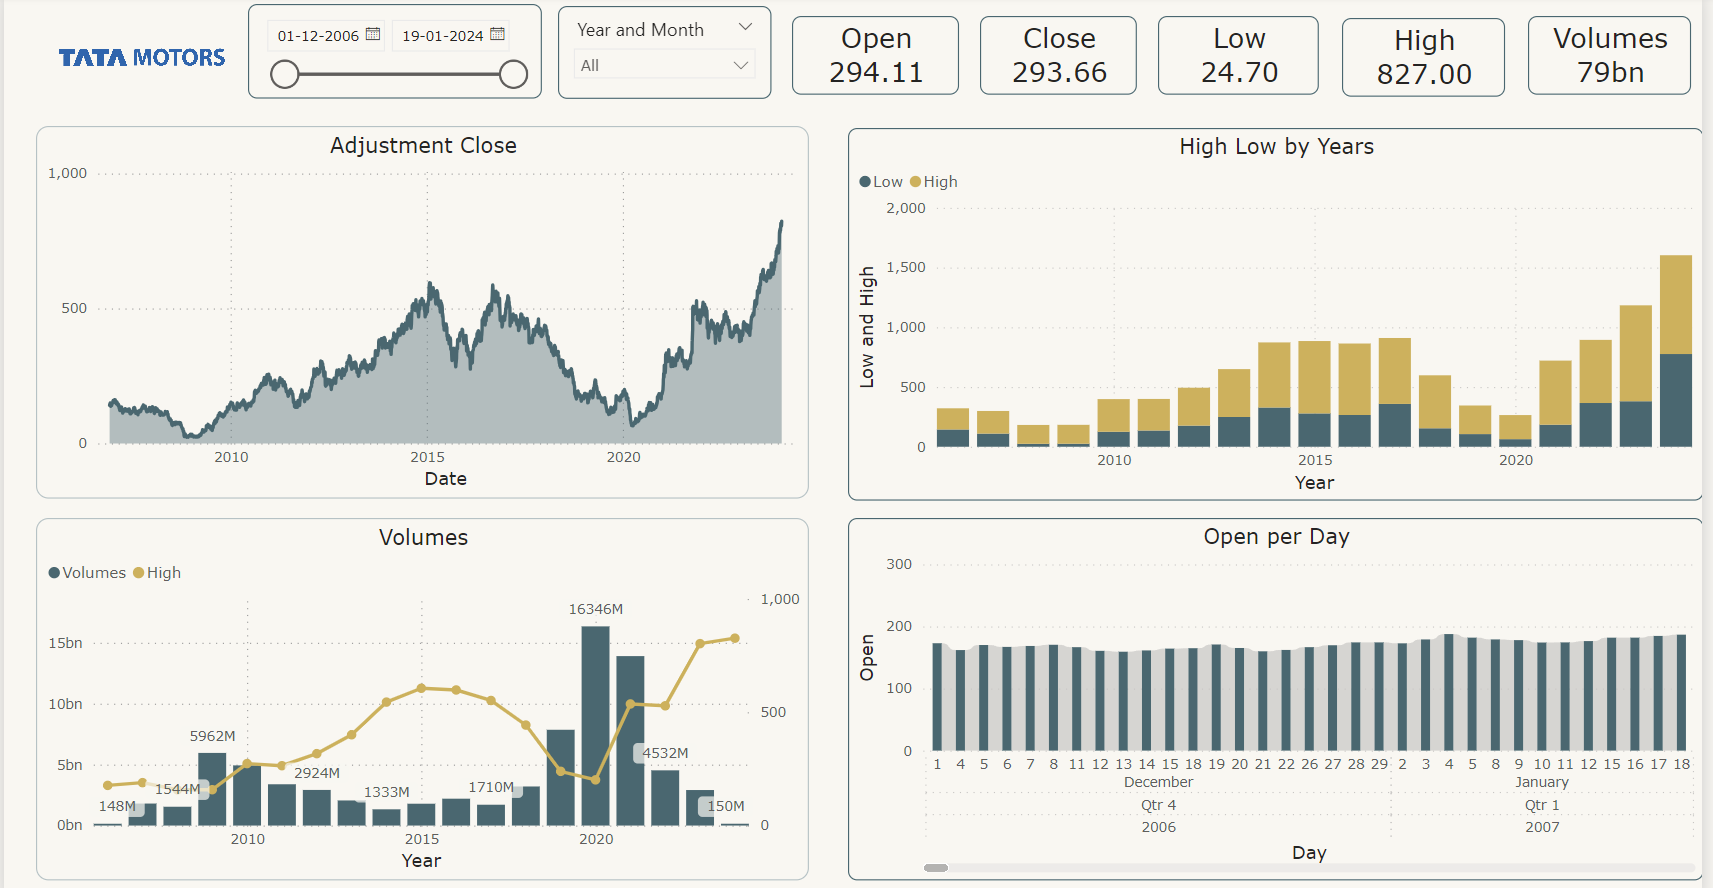

This screenshot's page, from the dashboard's own definition file:
{"tool":"powerbi","page":{"name":"Page 1","canvas":[1500,800],"ordinal":0},"visuals":[{"type":"areaChart","title":"Adjustment Close","fields":{"Category":["TATAMOTORS NS.Date"],"Y":["Sum(TATAMOTORS NS.Adj Close)"]},"box":[28.4,117.3,682.5,328.8],"z":0},{"type":"lineClusteredColumnComboChart","title":"Volumes ","fields":{"Category":["TATAMOTORS NS.Date.Variation.Date Hierarchy.Year","TATAMOTORS NS.Date.Variation.Date Hierarchy.Quarter","TATAMOTORS NS.Date.Variation.Date Hierarchy.Month","TATAMOTORS NS.Date.Variation.Date Hierarchy.Day"],"Y":["Sum(TATAMOTORS NS.Volume)"],"Y2":["Max(TATAMOTORS NS.High)"]},"box":[28.4,462.1,682.5,319.9],"z":1000},{"type":"image","box":[28.4,8.9,186.6,94.2],"z":2000},{"type":"lineStackedColumnComboChart","title":"High Low  by Years","fields":{"Category":["TATAMOTORS NS.Date.Variation.Date Hierarchy.Year"],"Y":["Min(TATAMOTORS NS.Low)","Max(TATAMOTORS NS.High)"]},"box":[744.7,119.1,755.3,328.8],"z":3000},{"type":"slicer","title":"Date","fields":{"Values":["TATAMOTORS NS.Date"]},"box":[215,8.9,259.5,83.5],"z":4000},{"type":"card","title":"Open","fields":{"Values":["Avg(TATAMOTORS NS.Open)"]},"box":[696.7,19.5,147.5,69.3],"z":6000},{"type":"card","title":"High","fields":{"Values":["Max(TATAMOTORS NS.High)"]},"box":[1181.9,21.3,144,69.3],"z":7000},{"type":"card","title":"Low","fields":{"Values":["Min(TATAMOTORS NS.Low)"]},"box":[1018.4,19.5,142.2,69.3],"z":8000},{"type":"card","title":"Close","fields":{"Values":["Avg(TATAMOTORS NS.Close)"]},"box":[862,19.5,138.6,69.3],"z":9000},{"type":"card","title":"Volumes","fields":{"Values":["Sum(TATAMOTORS NS.Volume)"]},"box":[1345.4,19.5,144,69.3],"z":10000},{"type":"ribbonChart","title":"Open per Day","fields":{"Y":["Avg(TATAMOTORS NS.Open)"],"Category":["TATAMOTORS NS.Date.Variation.Date Hierarchy.Year","TATAMOTORS NS.Date.Variation.Date Hierarchy.Quarter","TATAMOTORS NS.Date.Variation.Date Hierarchy.Month","TATAMOTORS NS.Date.Variation.Date Hierarchy.Day"]},"box":[744.7,462.1,755.3,319.9],"z":10001},{"type":"slicer","fields":{"Values":["TATAMOTORS NS.Date.Variation.Date Hierarchy.Year","TATAMOTORS NS.Date.Variation.Date Hierarchy.Month"]},"box":[488.7,10.7,188.4,81.8],"z":10002}]}

Visuals, with their boxes in screenshot pixels (x1, y1, x2, y2), scaled from the page's 1500x800 canvas onto the 1713x888 screenshot:
"Adjustment Close" areaChart: region(32, 130, 812, 495)
"Volumes " lineClusteredColumnComboChart: region(32, 513, 812, 868)
image: region(32, 10, 246, 114)
"High Low  by Years" lineStackedColumnComboChart: region(850, 132, 1712, 497)
"Date" slicer: region(246, 10, 542, 103)
"Open" card: region(796, 22, 964, 99)
"High" card: region(1350, 24, 1514, 101)
"Low" card: region(1163, 22, 1325, 99)
"Close" card: region(984, 22, 1143, 99)
"Volumes" card: region(1536, 22, 1701, 99)
"Open per Day" ribbonChart: region(850, 513, 1712, 868)
slicer - TATAMOTORS NS.Date.Variation.Date Hierarchy.Year x TATAMOTORS NS.Date.Variation.Date Hierarchy.Month: region(558, 12, 773, 103)
